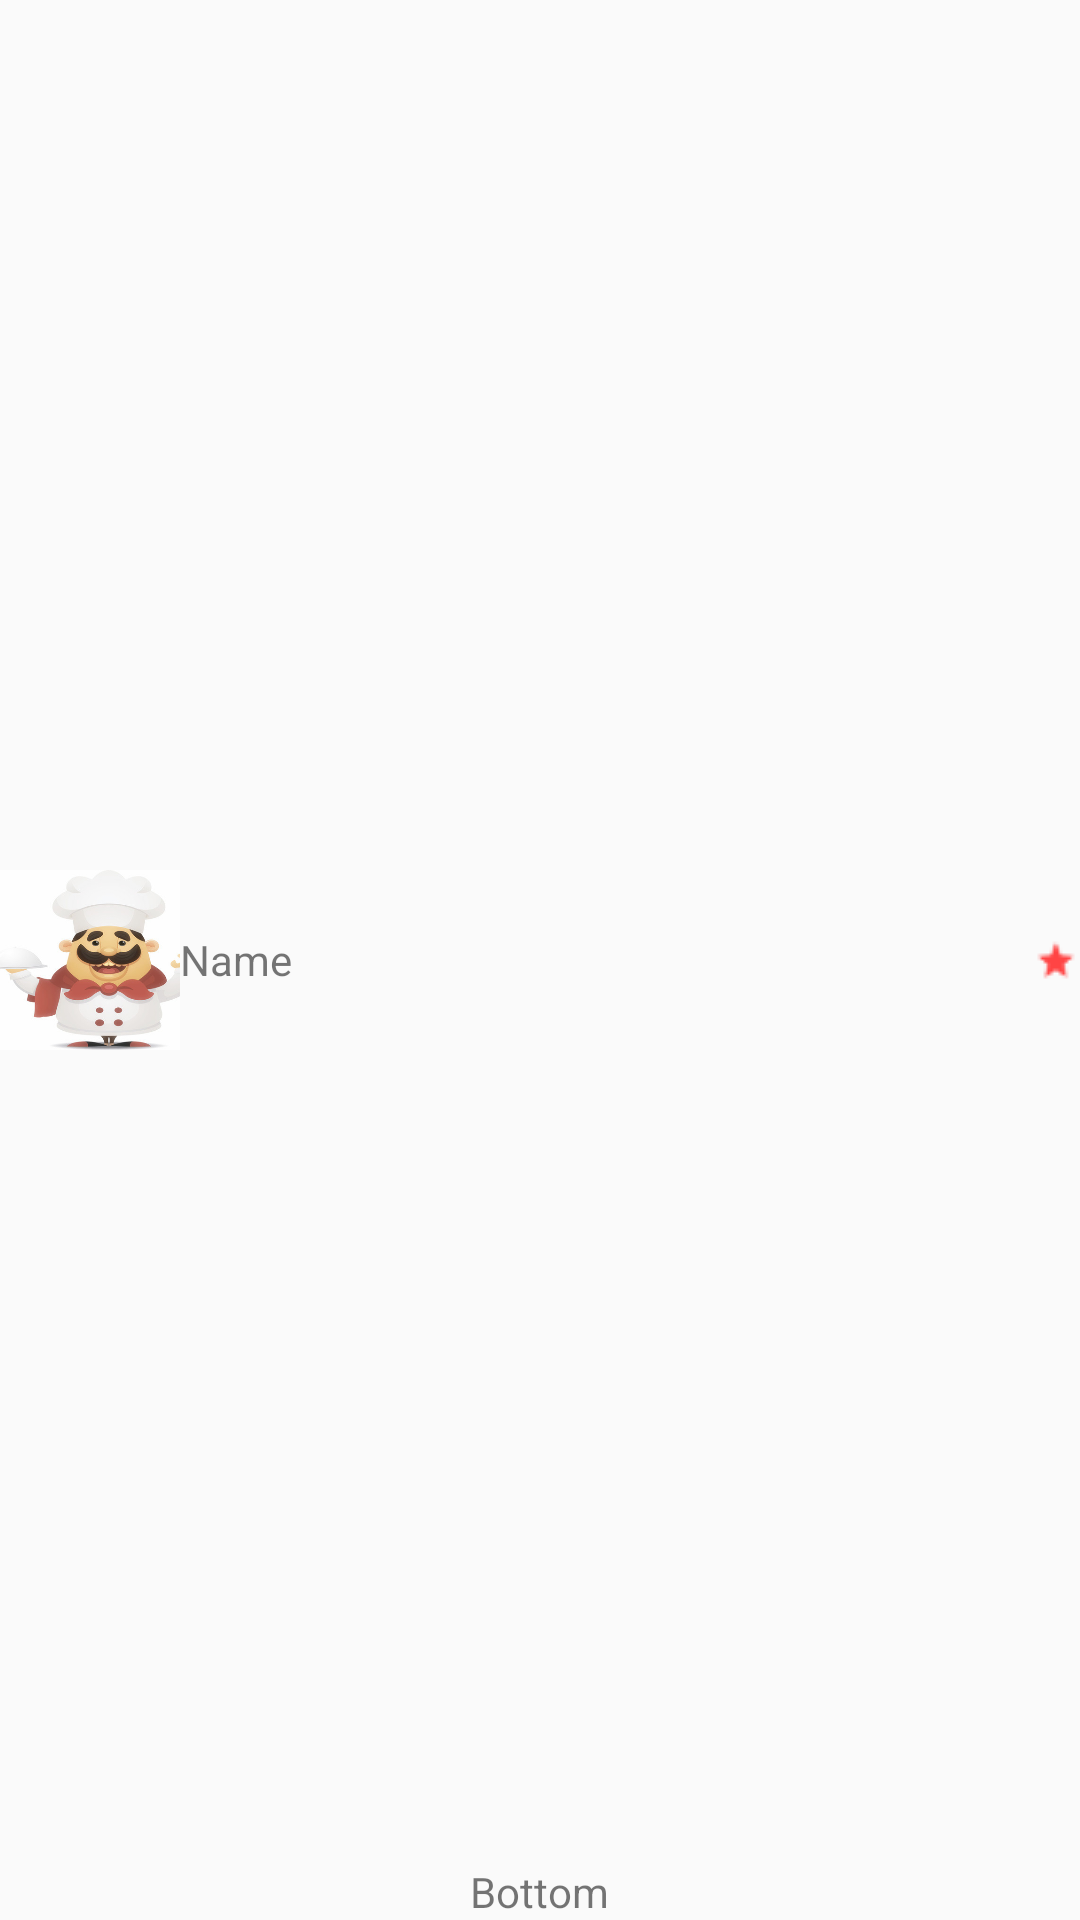

Icon bounding boxes for this 1080×1920 phone screenshot, format (x1, y1, x2, y2):
star: (1038, 943, 1073, 978)
